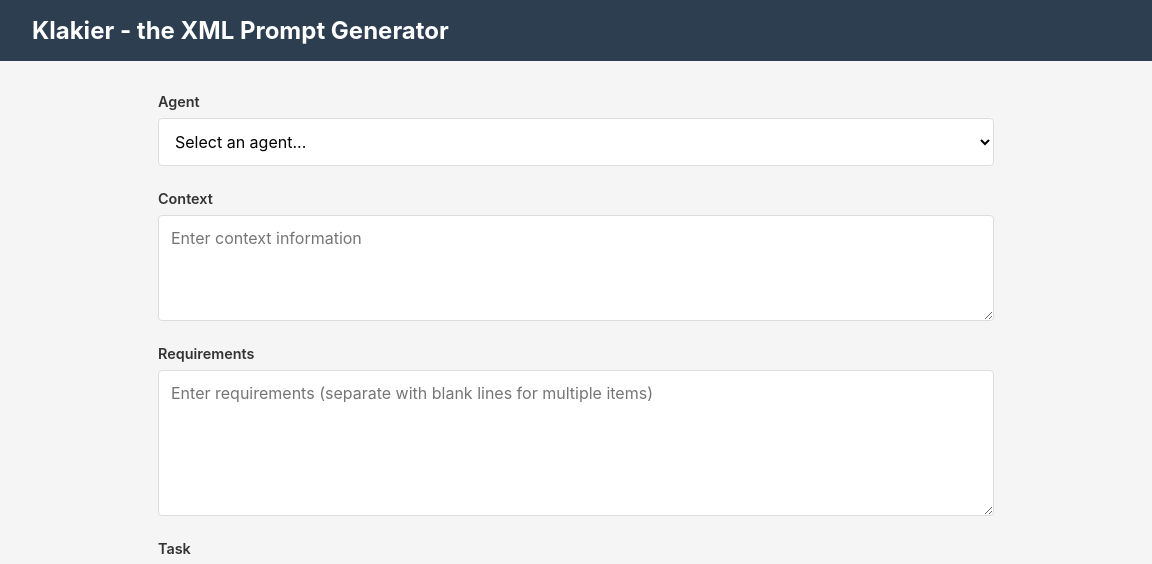
App › applies default context when selecting agent with defaultContext
The width and height of the screenshot is (1152, 564).
Select "Architect" in the dropdown: (576, 142) x1=158 y1=118 x2=994 y2=166
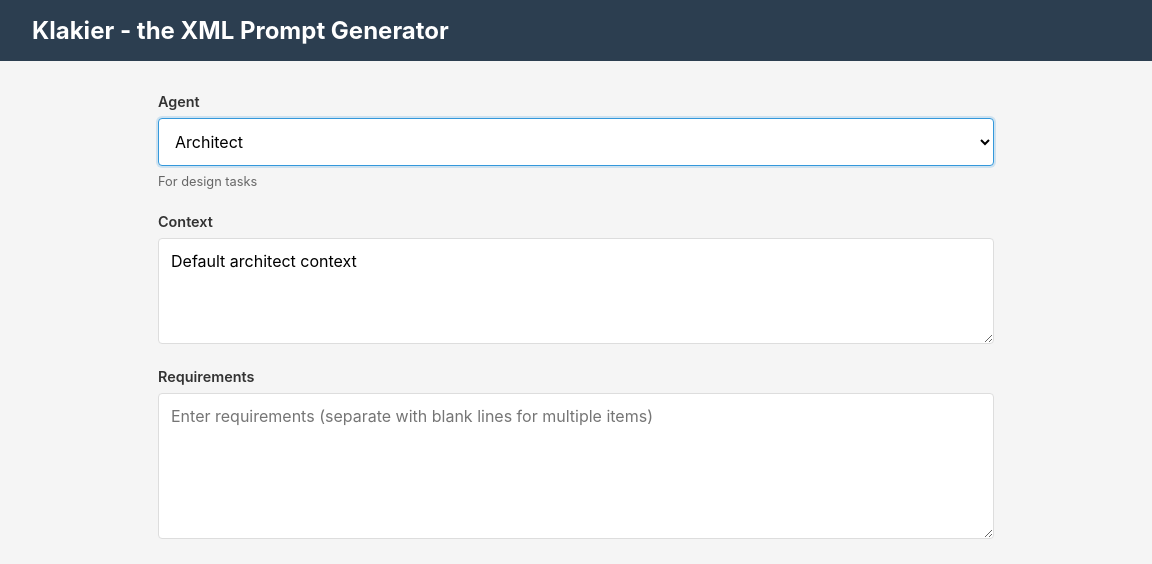
Result: the text box labelled "Context" holds "Default architect context" at x1=158 y1=238 x2=994 y2=344
